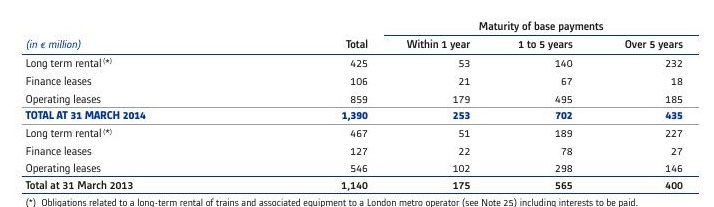table: (0, 0, 714, 207)
